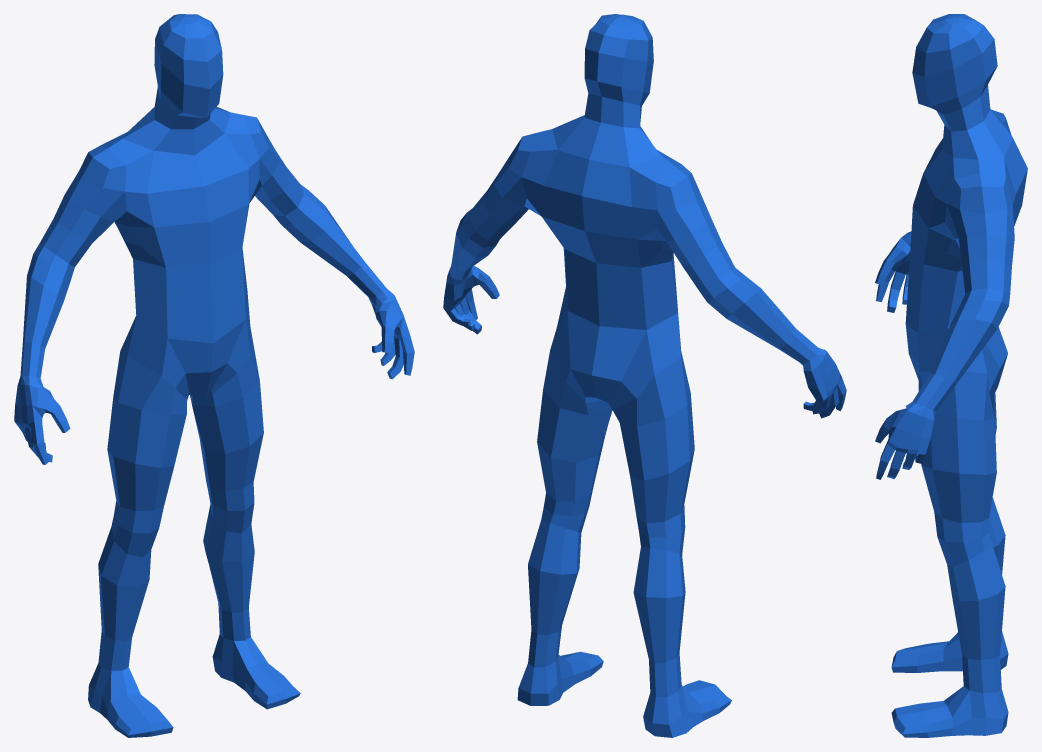
File: Marge.fbx
3 renders of one model, left to right at view 1: azimuth 30°, elevation 25°; view 2: azimuth 150°, elevation 25°; view 3: azimuth 270°, elevation 25°, orthographic.
Visible parts, largest first — view 1: Pers; view 2: Pers; view 3: Pers.
Part boxes in pixels (x1,y1,x2,y2): Pers: [14, 14, 414, 737]; Pers: [443, 14, 846, 737]; Pers: [875, 14, 1027, 737].
Bounding box in the file's own units: 276 × 473 × 96.77.
